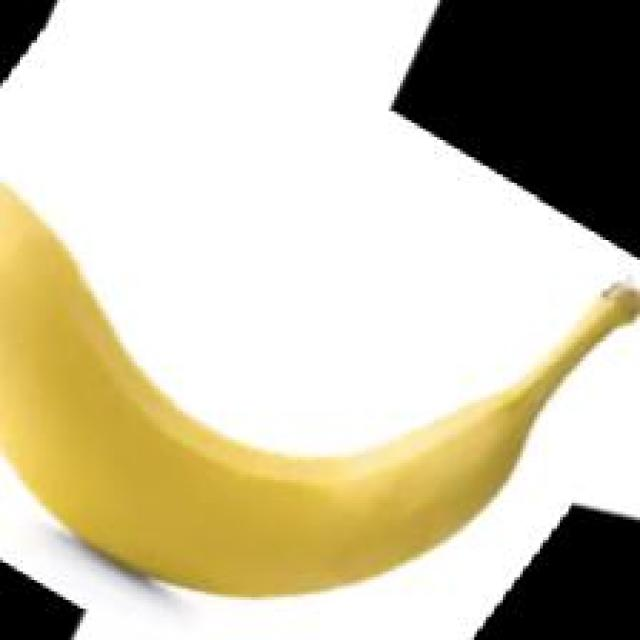bananas: (0, 174, 638, 576)
